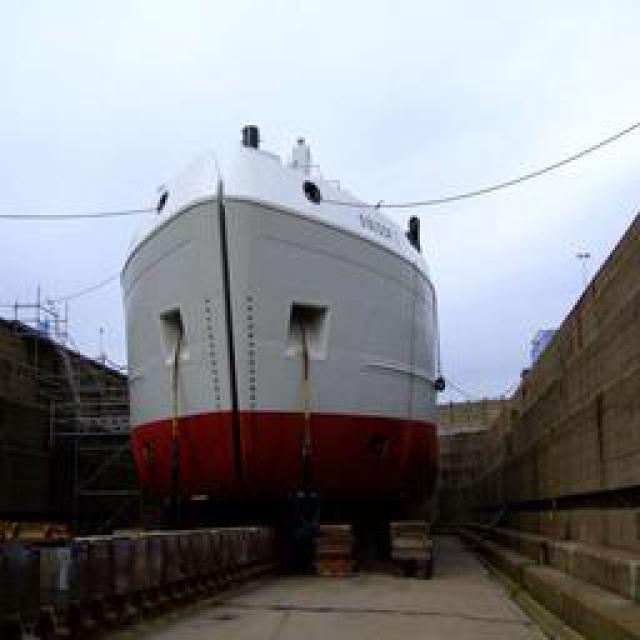Ship: (71, 88, 480, 541)
